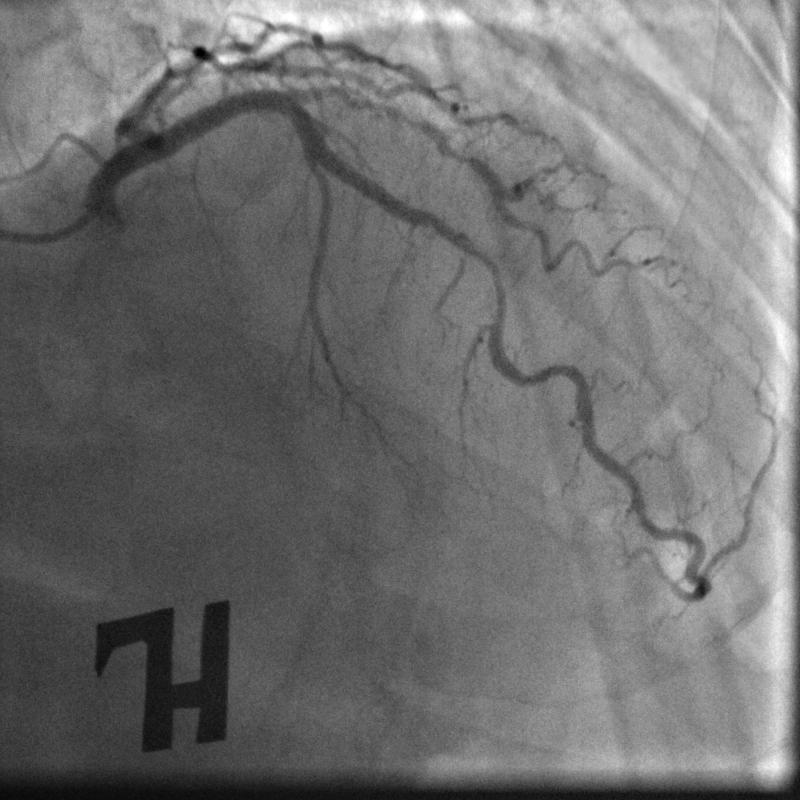Stenosis: (466, 239, 512, 322)
